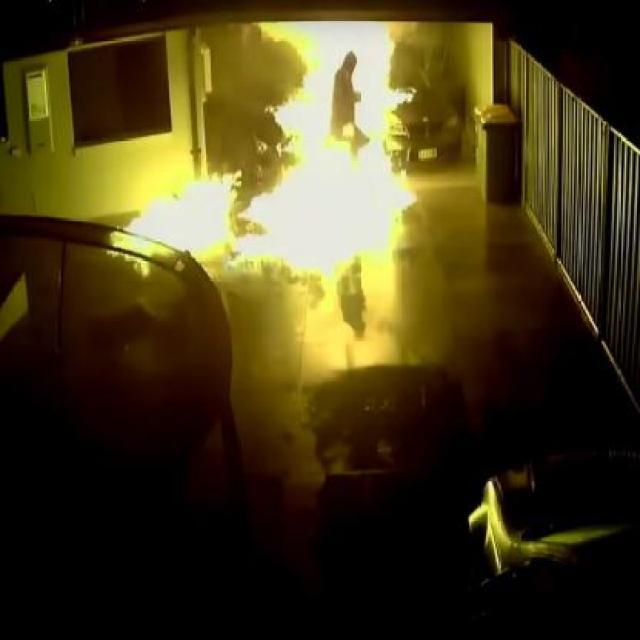Fire: (279, 112, 413, 268), (262, 16, 415, 56), (173, 179, 242, 258), (358, 54, 404, 114), (237, 196, 276, 264), (295, 54, 334, 115), (138, 202, 178, 256), (272, 101, 312, 145), (116, 210, 142, 258), (330, 52, 346, 70)
